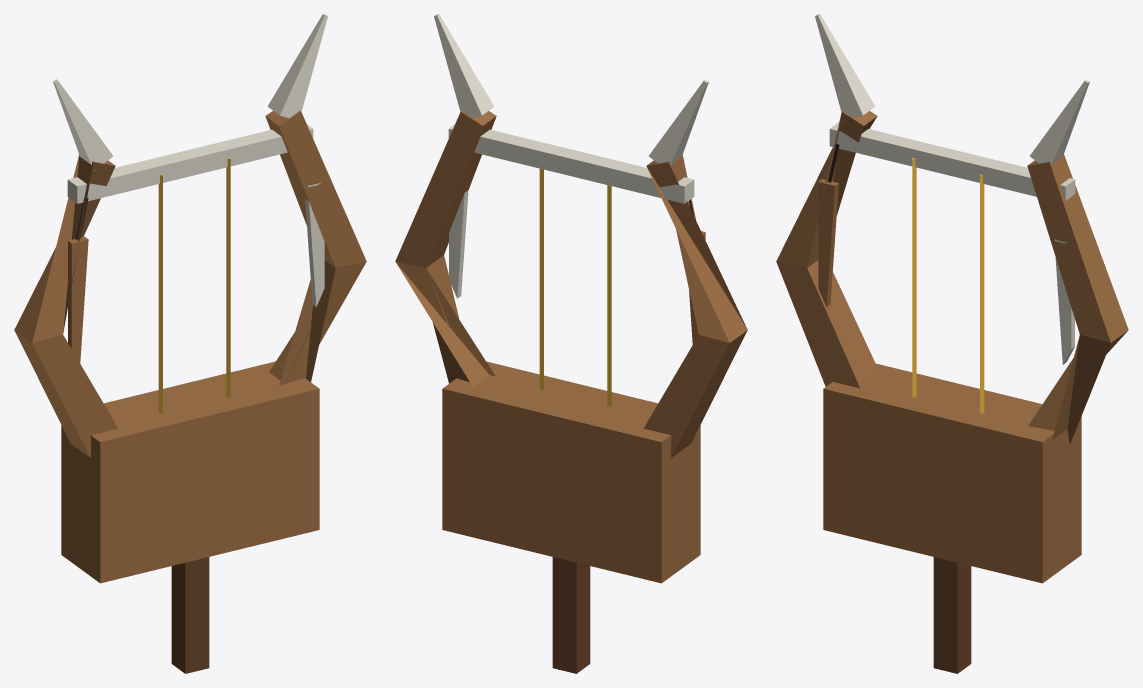
Rendered from SM_Prop_DriftwoodLyre_LQ.glb.
The picture shows the model from 3 angles, left to right: view 1: azimuth 30°, elevation 25°; view 2: azimuth 150°, elevation 25°; view 3: azimuth 330°, elevation 25°; orthographic projection.
Visible parts, largest first — view 1: SM_Prop_DriftwoodLyre_LQ; view 2: SM_Prop_DriftwoodLyre_LQ; view 3: SM_Prop_DriftwoodLyre_LQ.
Part boxes in pixels (<box>): SM_Prop_DriftwoodLyre_LQ: <box>14,14,366,673</box>; SM_Prop_DriftwoodLyre_LQ: <box>395,14,747,673</box>; SM_Prop_DriftwoodLyre_LQ: <box>776,14,1128,673</box>.
Size of the model in its own units: 0.3968 by 0.7009 by 0.08.
1 material, 1 textured.
